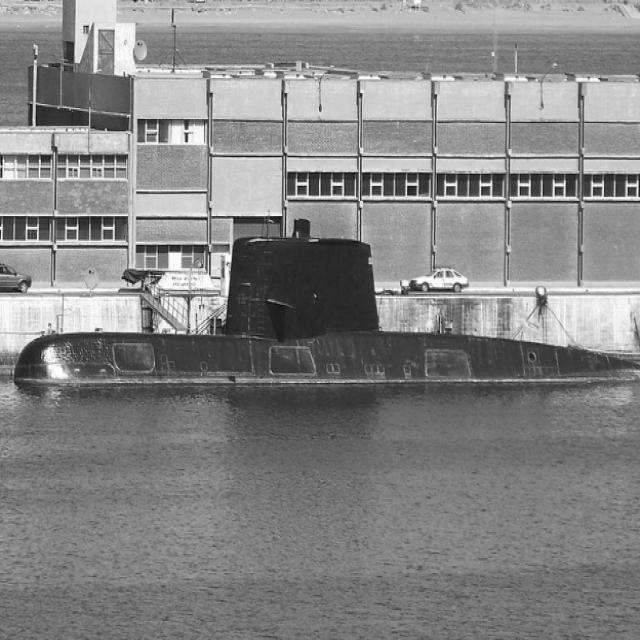submarine: (25, 240, 640, 383)
